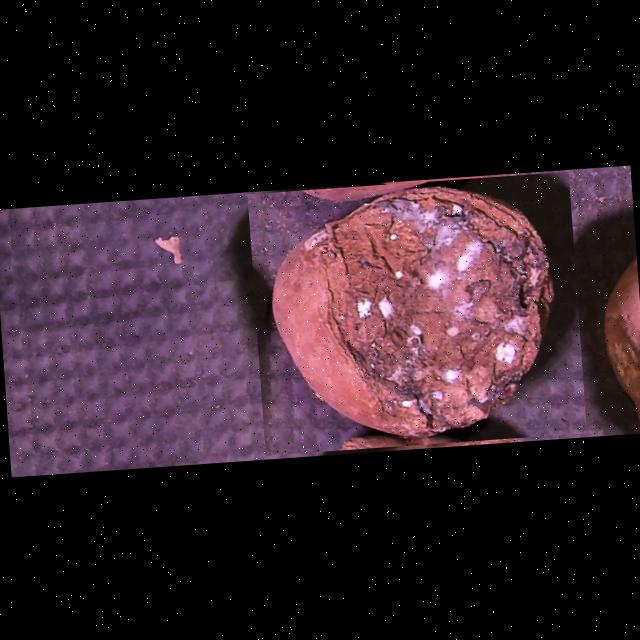Damaged potato: (246, 170, 585, 454)
